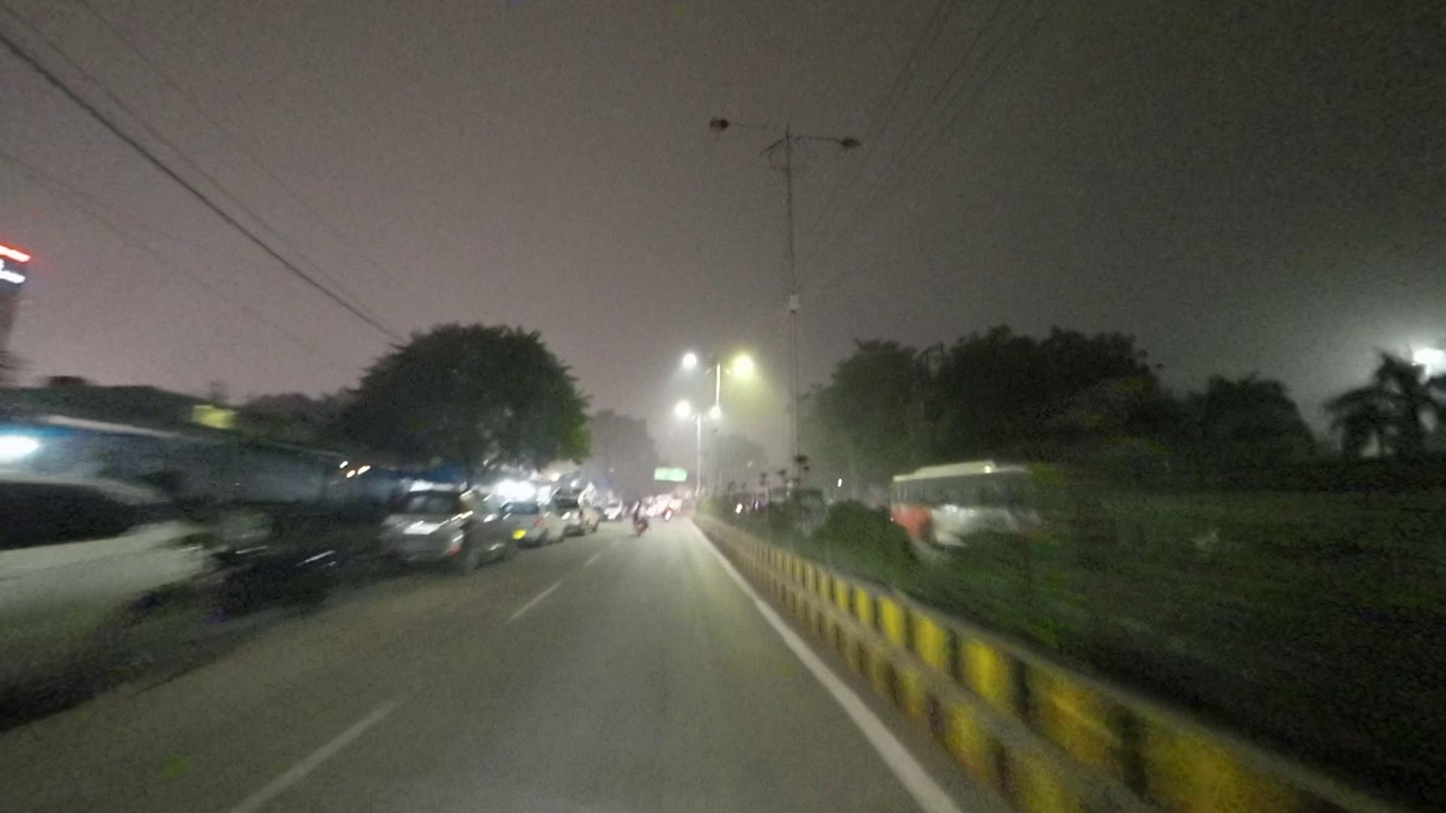streetlight: (707, 114, 787, 137), (789, 130, 867, 153)
